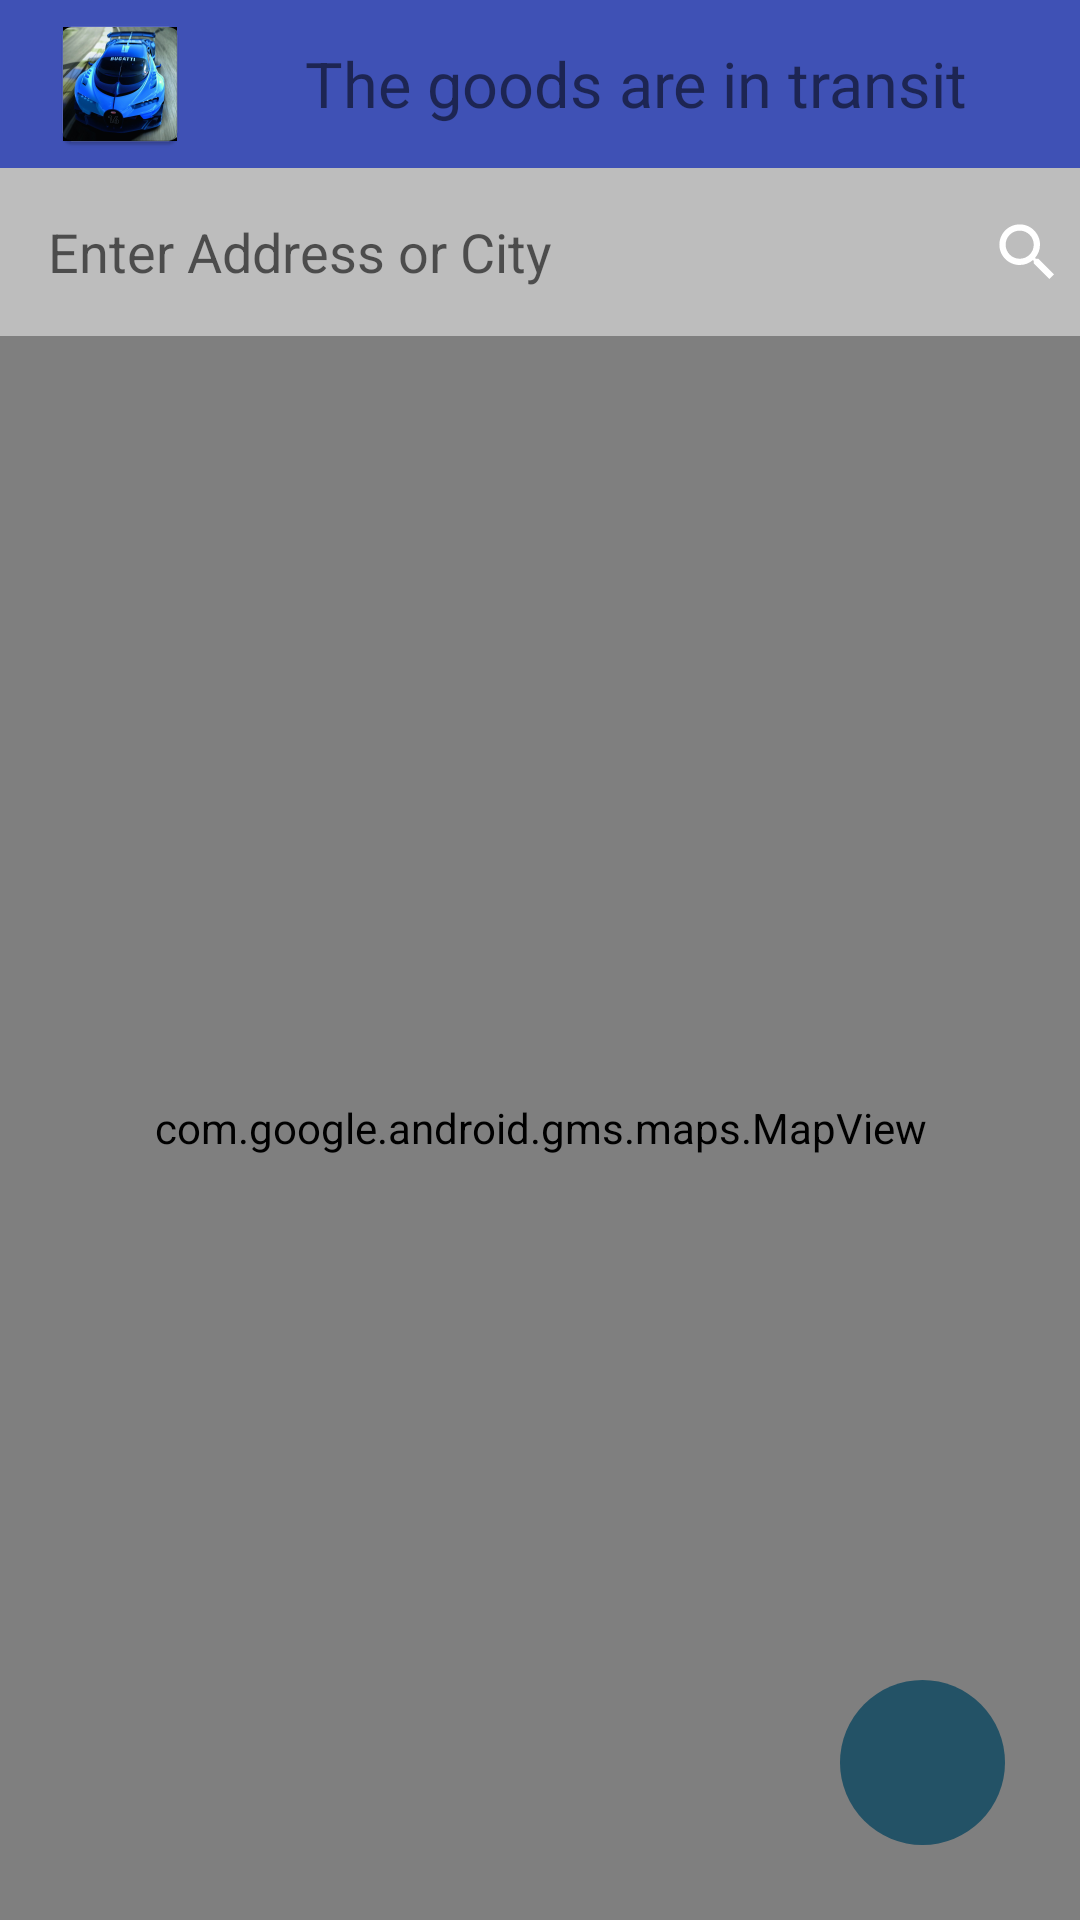

Named icons in this screenshot (1080 x 1920) and their centers, (x=x, y=y):
search: (x=1026, y=251)
